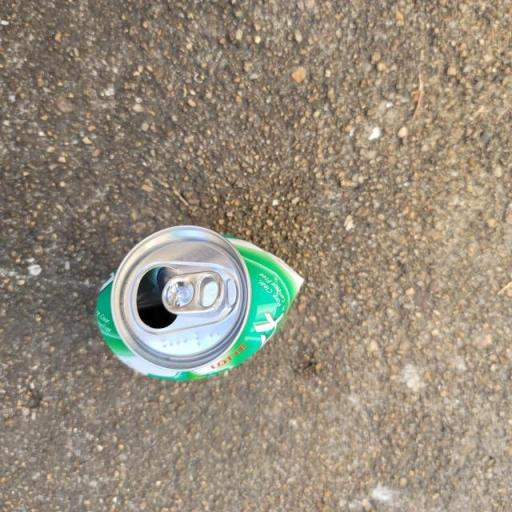metal: (74, 202, 316, 414)
